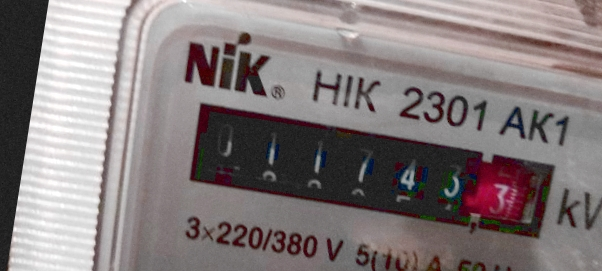0: (211, 119, 238, 161), (260, 125, 284, 169)
1: (306, 134, 328, 177)
3: (439, 157, 465, 203), (485, 178, 511, 218)
4: (395, 151, 421, 193)
7: (348, 140, 378, 187)
screen: (166, 86, 566, 252)
